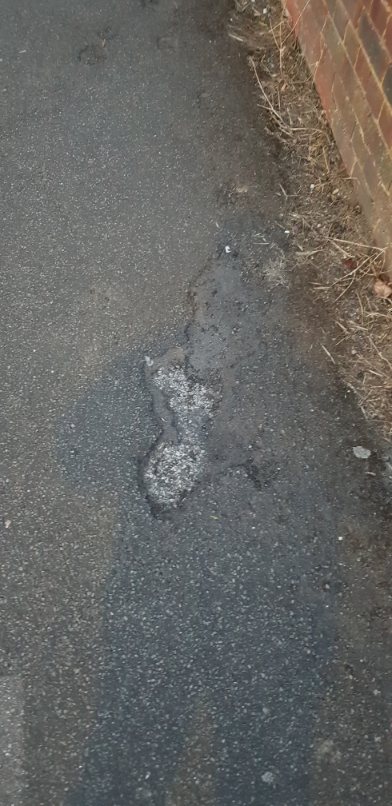pothole: (132, 346, 228, 519)
